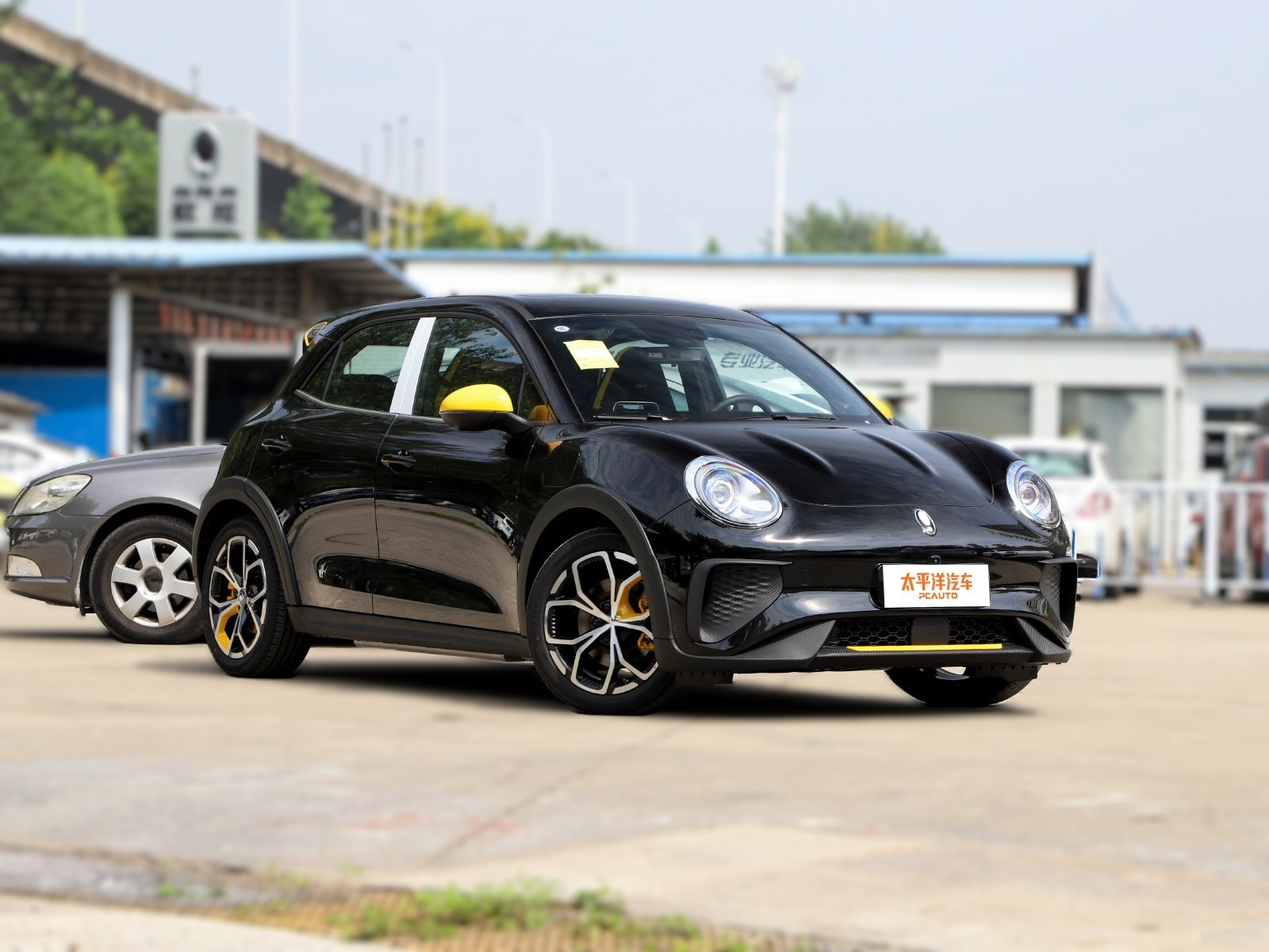ORA: (915, 509, 935, 535)
